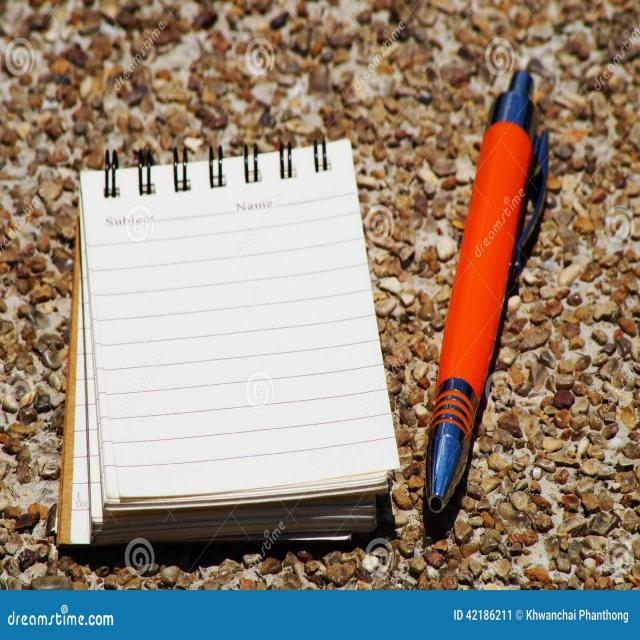paper: (55, 133, 402, 550)
